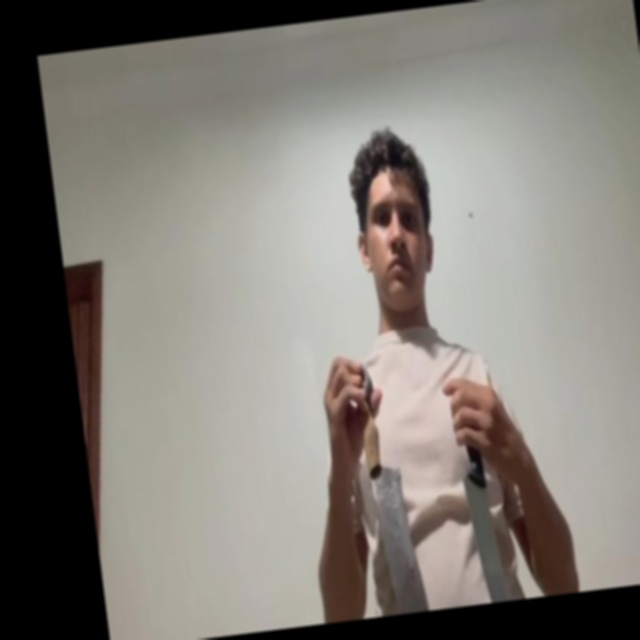Sharp-Object: (369, 464, 430, 616), (461, 471, 507, 605)
